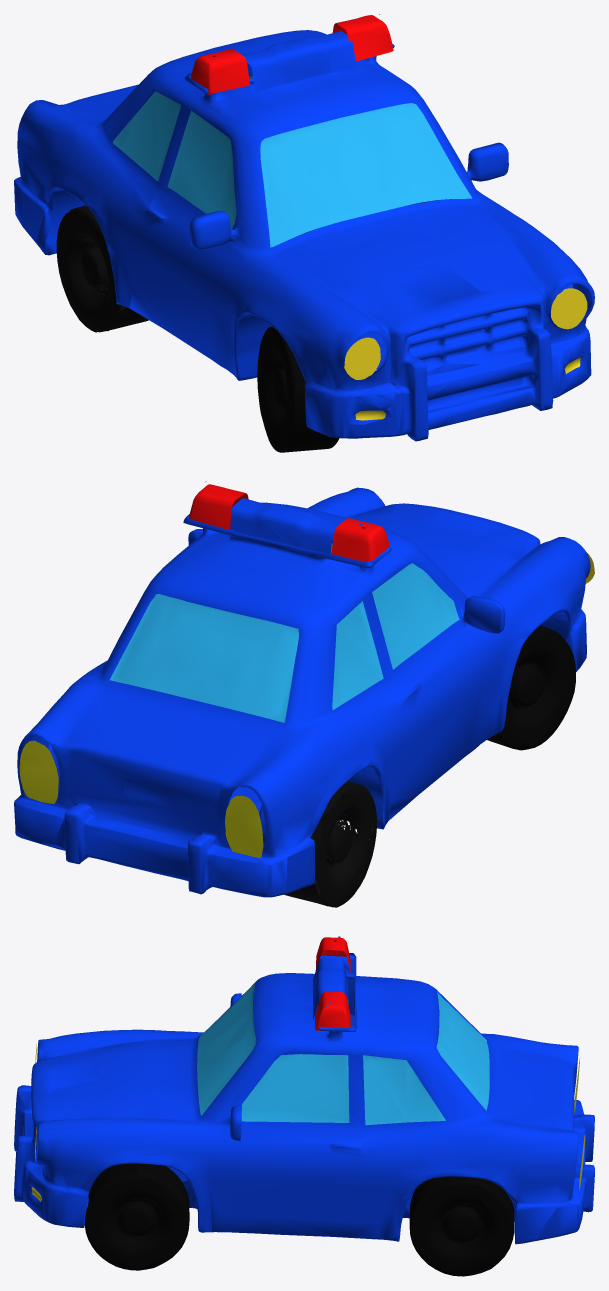
Rendered from police car upgraded center.glb.
3 renders of one model, top to bottom at view 1: azimuth 30°, elevation 25°; view 2: azimuth 150°, elevation 25°; view 3: azimuth 270°, elevation 25°, orthographic. The views are drawn at different scales.
Visible parts, largest first — view 1: Body, Body_Body_0.001, Body_Body_0.002, windows, Wheel_RR, Wheel_FR, Sirens_in-between_thing, Sirens, Body_Body_0.007, Headlights, Body_Body_0.008; view 2: Body, Body_Body_0.001, windows, Body_Body_0.002, Wheel_FR, Wheel_RR, Sirens_in-between_thing, Sirens, model010, model011, Body_Body_0.008; view 3: Body, windows, Body_Body_0.002, Wheel_FL, Wheel_RL, Sirens, Sirens_in-between_thing.
Part boxes in pixels (left/top/right/bottom): Body: left=14, top=14, right=594, bottom=441; Body_Body_0.001: left=17, top=74, right=351, bottom=437; Body_Body_0.002: left=51, top=192, right=588, bottom=341; windows: left=112, top=75, right=471, bottom=247; Wheel_RR: left=56, top=205, right=148, bottom=332; Wheel_FR: left=257, top=326, right=339, bottom=452; Sirens_in-between_thing: left=242, top=31, right=356, bottom=92; Sirens: left=190, top=15, right=393, bottom=95; Body_Body_0.007: left=342, top=364, right=522, bottom=438; Headlights: left=344, top=288, right=587, bottom=379; Body_Body_0.008: left=22, top=192, right=45, bottom=247; Body: left=14, top=481, right=584, bottom=897; Body_Body_0.001: left=257, top=547, right=590, bottom=858; windows: left=110, top=543, right=459, bottom=722; Body_Body_0.002: left=260, top=487, right=584, bottom=848; Wheel_FR: left=487, top=625, right=575, bottom=750; Wheel_RR: left=284, top=781, right=376, bottom=907; Sirens_in-between_thing: left=228, top=498, right=341, bottom=553; Sirens: left=189, top=484, right=389, bottom=561; model010: left=19, top=740, right=58, bottom=803; model011: left=225, top=796, right=263, bottom=858; Body_Body_0.008: left=284, top=844, right=314, bottom=894; Body: left=14, top=936, right=594, bottom=1244; windows: left=197, top=982, right=489, bottom=1125; Body_Body_0.002: left=32, top=1029, right=440, bottom=1137; Wheel_FL: left=84, top=1163, right=189, bottom=1270; Wheel_RL: left=409, top=1176, right=514, bottom=1276; Sirens: left=314, top=937, right=350, bottom=1031; Sirens_in-between_thing: left=313, top=957, right=348, bottom=1019.
Size of the model in its own units: 1.57 by 1.5 by 3.02.
